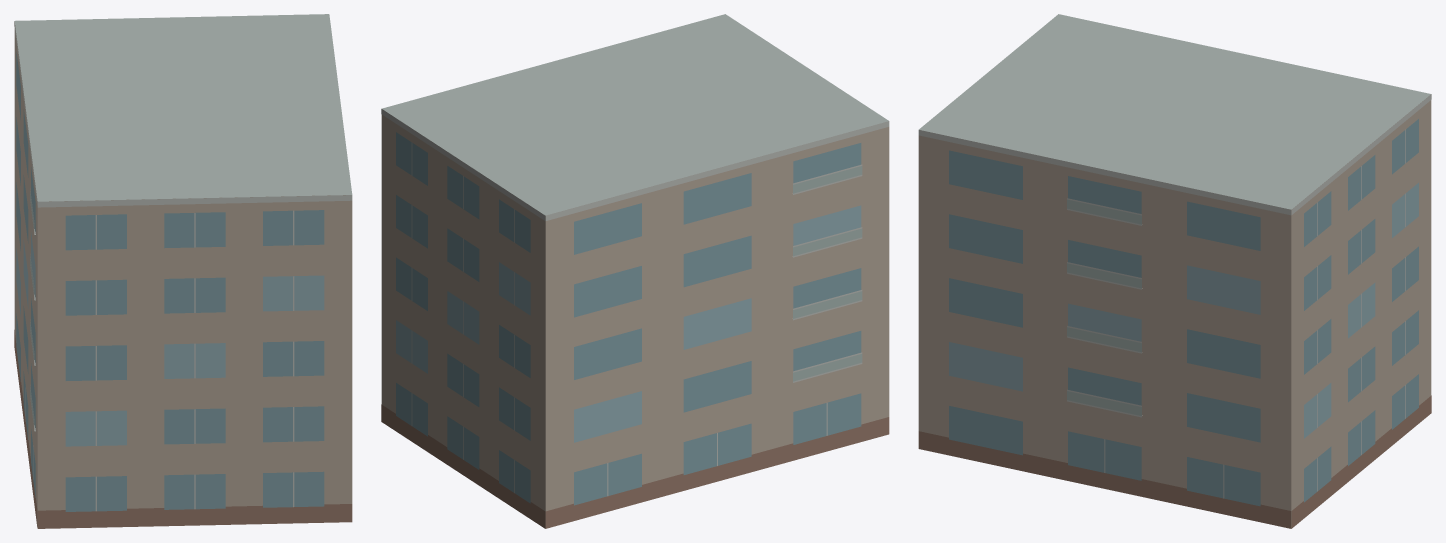
File: survey-upis-32777888.glb
3 views of the same model, side by side, from view 1: azimuth 30°, elevation 25°; view 2: azimuth 150°, elevation 25°; view 3: azimuth 270°, elevation 25° (orthographic). The views are drawn at different scales.
Visible parts, largest first — view 1: survey-upis-32777888.tmp; view 2: survey-upis-32777888.tmp; view 3: survey-upis-32777888.tmp.
Boxes of the visible parts, x1,y1,x2,y2 form: survey-upis-32777888.tmp: (14, 14, 352, 528); survey-upis-32777888.tmp: (381, 14, 889, 528); survey-upis-32777888.tmp: (918, 14, 1431, 528).
Size of the model in its own units: 17.96 by 13.65 by 19.89.
